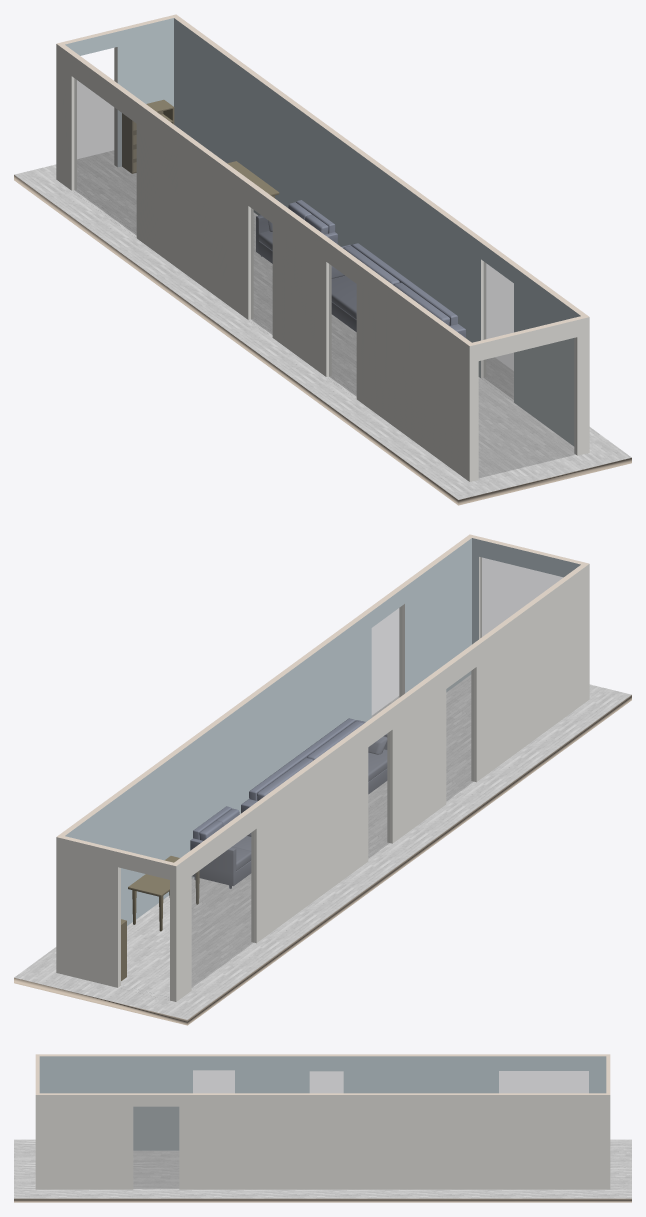
Rendered from Nov17at8-09AM-poly.fbx.
3 views of the same model, one above another, from view 1: azimuth 30°, elevation 25°; view 2: azimuth 150°, elevation 25°; view 3: azimuth 270°, elevation 25° (orthographic). The views are drawn at different scales.
Visible parts, largest first — view 1: wall_3-1.wall_2-3.wall_0-1.wall_2-1.wall_0-3.wall_1-3.wall_1, wall_3-0.wall_2-0.wall_0-0.wall_1-0, floor_0-0, door_1.door_2.door_3.door_4.door_0, wall_2-2.wall_0-2.wall_1-2.wall_3-2, object_1.object_0, floor_0-1, object_3.object_2; view 2: wall_3-1.wall_2-3.wall_0-1.wall_2-1.wall_0-3.wall_1-3.wall_1, wall_3-0.wall_2-0.wall_0-0.wall_1-0, floor_0-0, door_1.door_2.door_3.door_4.door_0, wall_2-2.wall_0-2.wall_1-2.wall_3-2, object_1.object_0, floor_0-1, object_3.object_2; view 3: wall_3-1.wall_2-3.wall_0-1.wall_2-1.wall_0-3.wall_1-3.wall_1, wall_3-0.wall_2-0.wall_0-0.wall_1-0, floor_0-0, door_1.door_2.door_3.door_4.door_0, wall_2-2.wall_0-2.wall_1-2.wall_3-2, floor_0-1.
Boxes of the visible parts, x1,y1,x2,y2 form: wall_3-1.wall_2-3.wall_0-1.wall_2-1.wall_0-3.wall_1-3.wall_1: (56, 44, 589, 481); wall_3-0.wall_2-0.wall_0-0.wall_1-0: (65, 18, 580, 445); floor_0-0: (14, 150, 631, 499); door_1.door_2.door_3.door_4.door_0: (74, 78, 575, 477); wall_2-2.wall_0-2.wall_1-2.wall_3-2: (56, 14, 588, 345); object_1.object_0: (256, 200, 465, 337); floor_0-1: (14, 175, 631, 505); object_3.object_2: (122, 99, 279, 198); wall_3-1.wall_2-3.wall_0-1.wall_2-1.wall_0-3.wall_1-3.wall_1: (56, 557, 589, 1001); wall_3-0.wall_2-0.wall_0-0.wall_1-0: (65, 538, 580, 925); floor_0-0: (14, 675, 631, 1019); door_1.door_2.door_3.door_4.door_0: (192, 557, 562, 987); wall_2-2.wall_0-2.wall_1-2.wall_3-2: (57, 534, 589, 865); object_1.object_0: (190, 718, 387, 888); floor_0-1: (14, 695, 631, 1025); object_3.object_2: (121, 856, 199, 980); wall_3-1.wall_2-3.wall_0-1.wall_2-1.wall_0-3.wall_1-3.wall_1: (35, 1095, 610, 1189); wall_3-0.wall_2-0.wall_0-0.wall_1-0: (39, 1056, 606, 1150); floor_0-0: (14, 1139, 631, 1198); door_1.door_2.door_3.door_4.door_0: (133, 1070, 588, 1188); wall_2-2.wall_0-2.wall_1-2.wall_3-2: (35, 1054, 610, 1094); floor_0-1: (14, 1198, 631, 1202).
Size of the model in its own units: 3.24 by 2.52 by 14.37.
7 materials, 1 textured.
